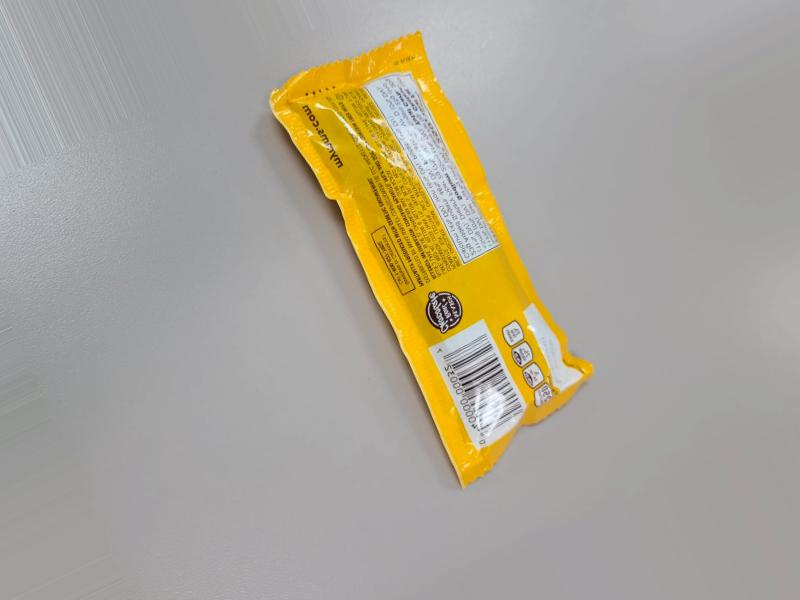m&m: (263, 20, 601, 463)
